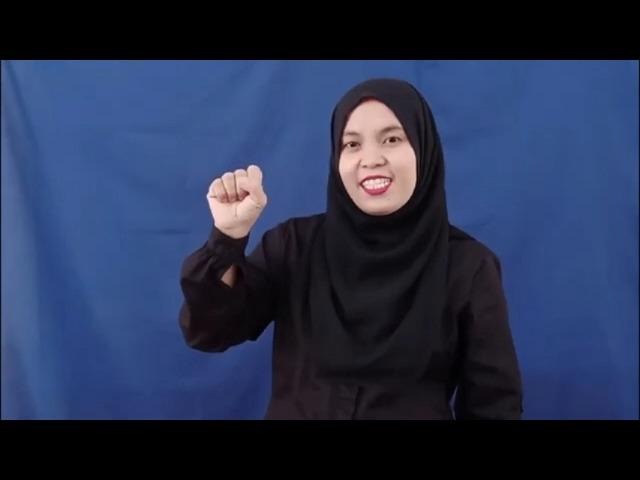S: (206, 162, 270, 226)
